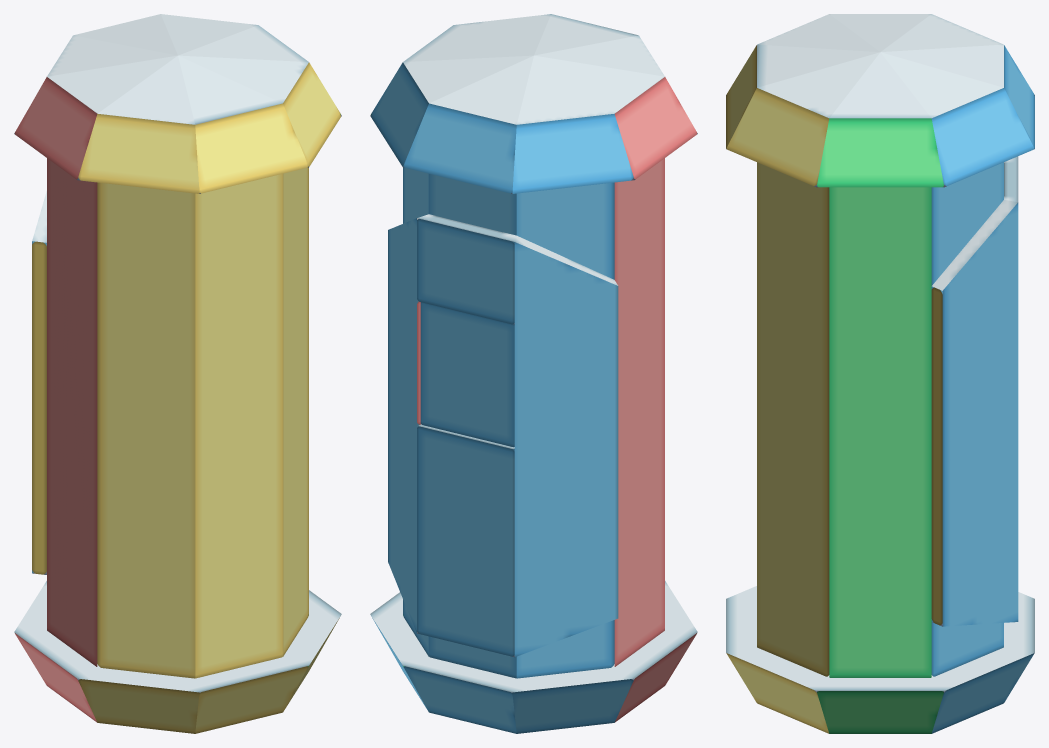
Rendered from cryo_tank.obj.
The picture shows the model from 3 angles, left to right: view 1: azimuth 30°, elevation 25°; view 2: azimuth 150°, elevation 25°; view 3: azimuth 270°, elevation 25°; orthographic projection.
Visible parts, largest first — view 1: body, cap_top, cap_bottom, door; view 2: door, cap_top, body, cap_bottom, window; view 3: body, cap_top, door, cap_bottom.
Part boxes in pixels (<box>): body: <box>47,158,308,678</box>; cap_top: <box>14,14,341,193</box>; cap_bottom: <box>14,581,341,733</box>; door: <box>32,191,46,574</box>; door: <box>388,214,618,657</box>; cap_top: <box>370,14,697,193</box>; body: <box>403,158,664,678</box>; cap_bottom: <box>370,581,697,733</box>; window: <box>420,302,514,447</box>; body: <box>757,162,1003,677</box>; cap_top: <box>726,14,1034,187</box>; door: <box>931,156,1018,626</box>; cap_bottom: <box>726,586,1034,733</box>.
Size of the model in its own units: 1.25 by 2.81 by 1.25.
Materials: 1 (1 with a texture image).
